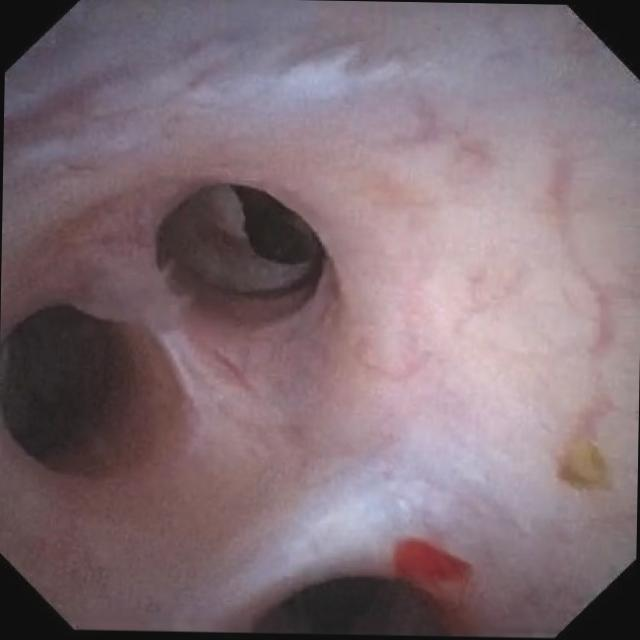stone-new: (234, 189, 320, 265), (559, 437, 612, 491)
